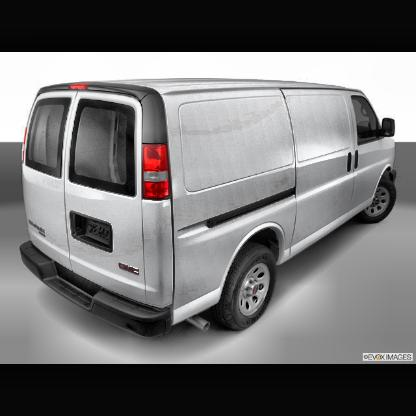GMC Savana Van 2012: (21, 80, 399, 339)
